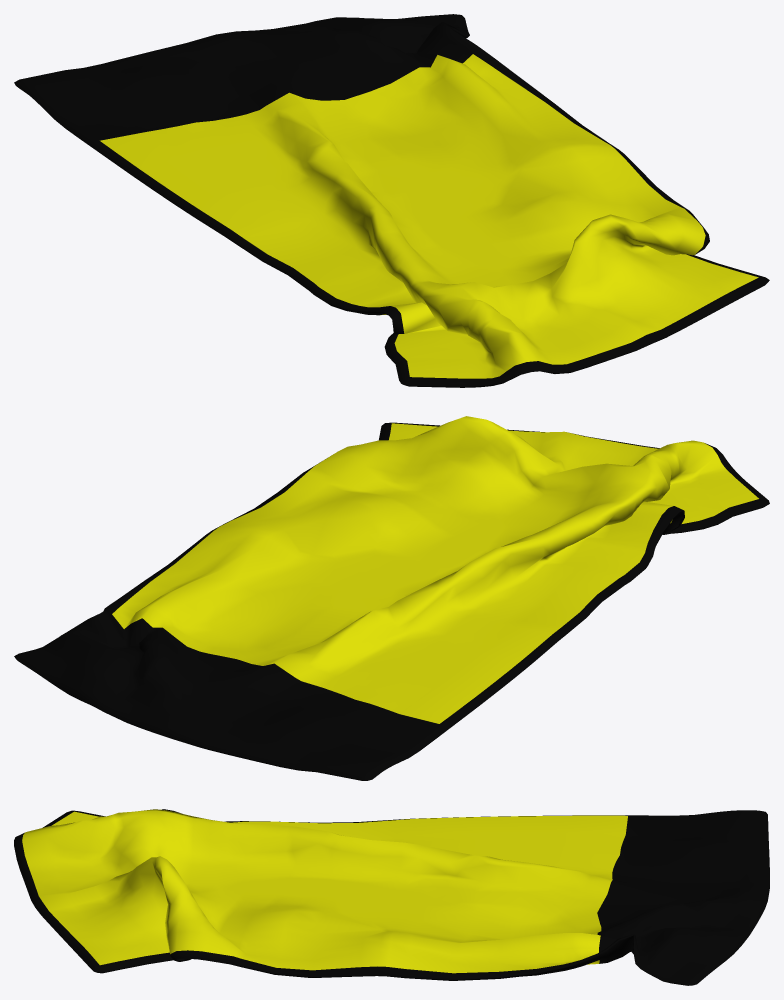
3 views of the same model, one above another, from view 1: azimuth 30°, elevation 25°; view 2: azimuth 150°, elevation 25°; view 3: azimuth 270°, elevation 25° (orthographic). The views are drawn at different scales.
Parts seen in each view (by area): view 1: Mat; view 2: Mat; view 3: Mat.
Part boxes in pixels (bbox=[...]): Mat: bbox=[14, 14, 769, 387]; Mat: bbox=[14, 416, 769, 780]; Mat: bbox=[14, 809, 769, 985].
Bounding box in the file's own units: 44.37 × 7.9 × 79.97.
